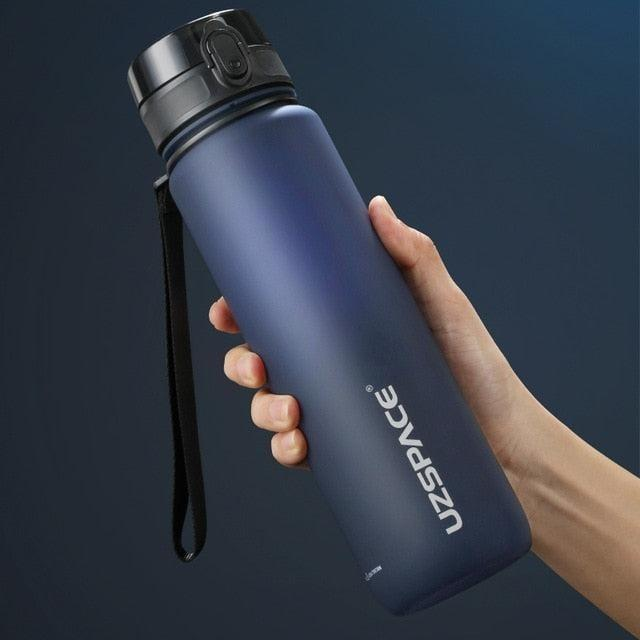gym bottle: (127, 9, 530, 617)
